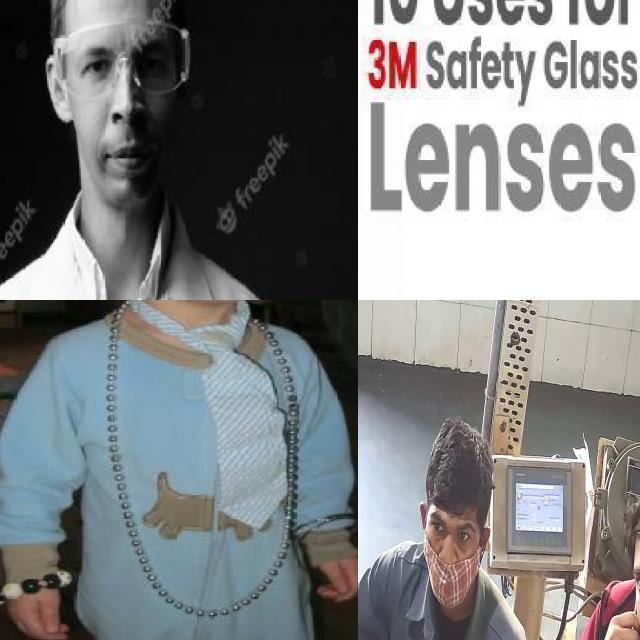No_Glasses: (426, 510, 477, 553), (623, 549, 640, 602)
face_mask: (419, 506, 487, 608)
face_nomask: (63, 30, 182, 182)
glasses: (53, 14, 190, 98)
hand_noglove: (0, 583, 74, 640), (306, 552, 358, 612), (588, 606, 640, 640)
head_nohelmet: (414, 418, 502, 505)
person: (0, 300, 358, 640), (0, 0, 320, 300), (376, 418, 534, 640), (535, 463, 640, 640)
